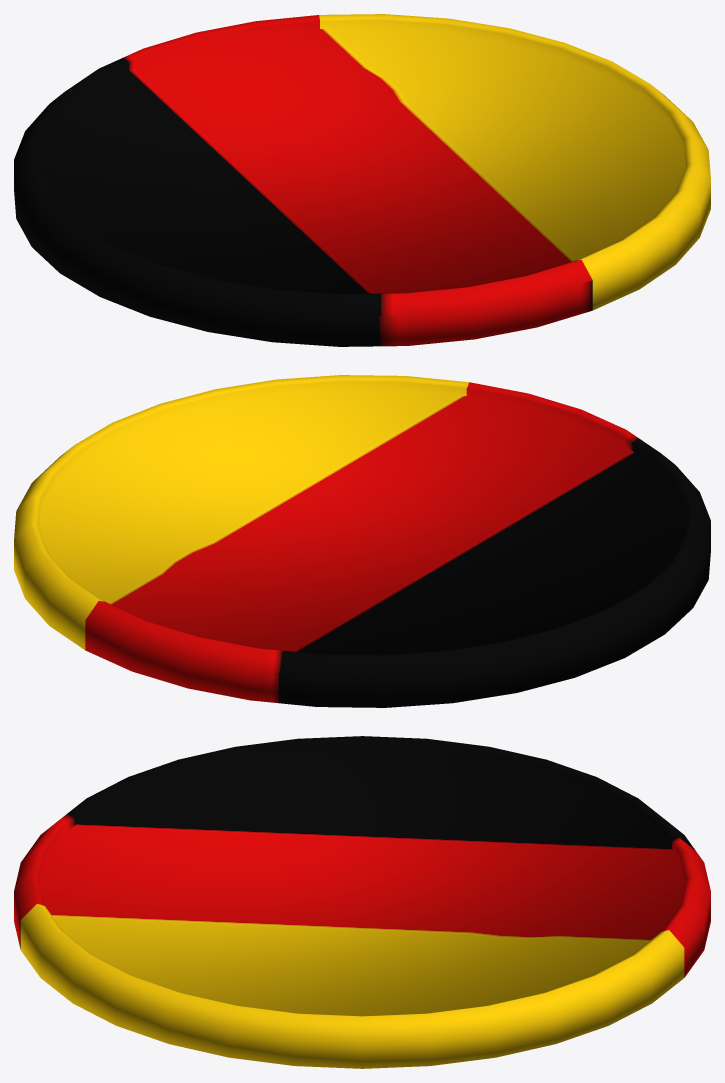
Rendered from GermanFlagRound.fbx.
3 views of the same model, one above another, from view 1: azimuth 30°, elevation 25°; view 2: azimuth 150°, elevation 25°; view 3: azimuth 270°, elevation 25° (orthographic).
Parts seen in each view (by area): view 1: Circle; view 2: Circle; view 3: Circle.
Part boxes in pixels (x1,y1,x2,y2): Circle: (14,14,710,346); Circle: (14,375,710,707); Circle: (14,736,710,1068).
Bounding box in the file's own units: 200 × 14.34 × 200.
Materials: 1 (1 with a texture image).
